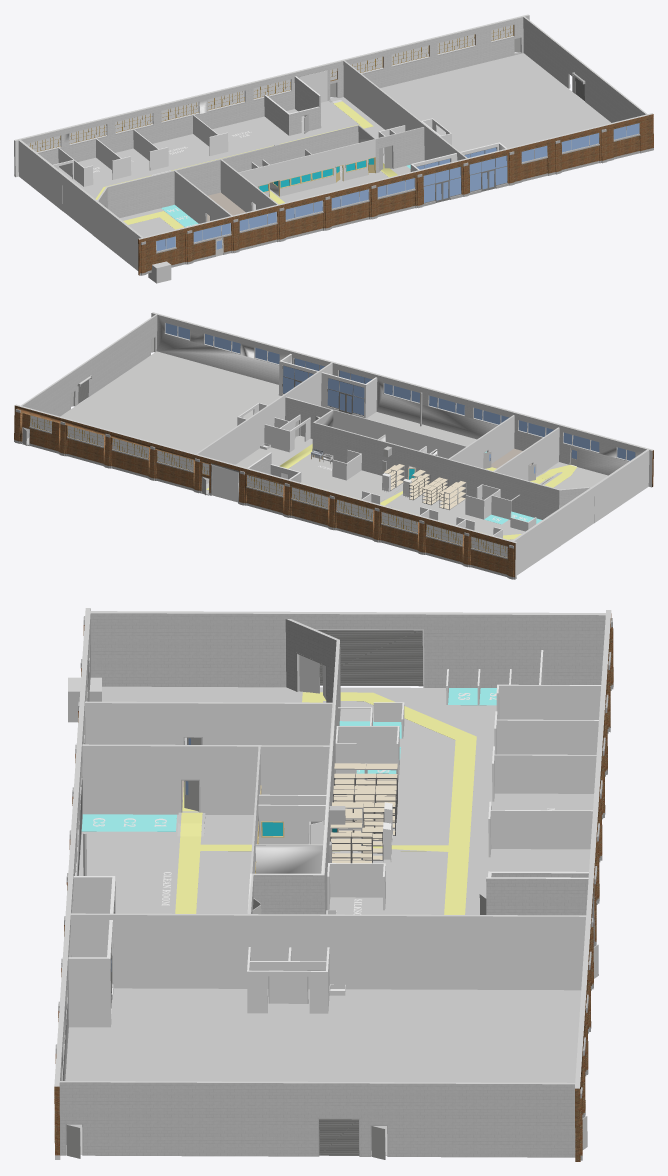
The picture shows the model from 3 angles, top to bottom: view 1: azimuth 30°, elevation 25°; view 2: azimuth 150°, elevation 25°; view 3: azimuth 270°, elevation 25°; orthographic projection. The views are drawn at different scales.
Visible parts, largest first — view 1: BODGERY FLOOR PLAN1, Cube; view 2: BODGERY FLOOR PLAN1; view 3: BODGERY FLOOR PLAN1, Cube.
Boxes of the visible parts, x1,y1,x2,y2 form: BODGERY FLOOR PLAN1: [14, 14, 653, 275]; Cube: [148, 261, 171, 283]; BODGERY FLOOR PLAN1: [14, 312, 653, 579]; BODGERY FLOOR PLAN1: [54, 608, 613, 1161]; Cube: [68, 677, 101, 722].
Size of the model in its own units: 70.26 by 7.01 by 33.17.
25 materials, 6 textured.
